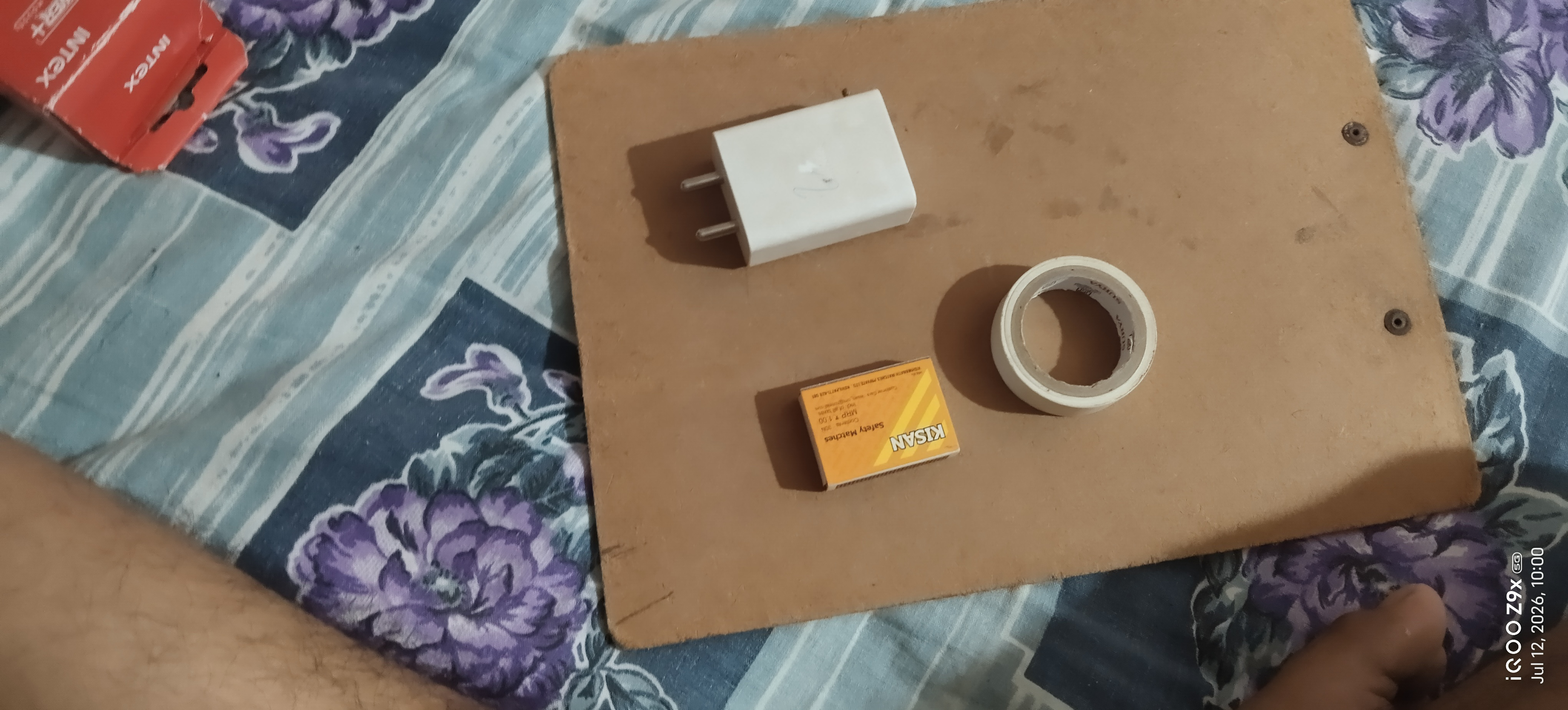charger: (649, 83, 936, 291)
matchbox: (784, 348, 969, 509)
tape_roll: (969, 246, 1168, 431)
